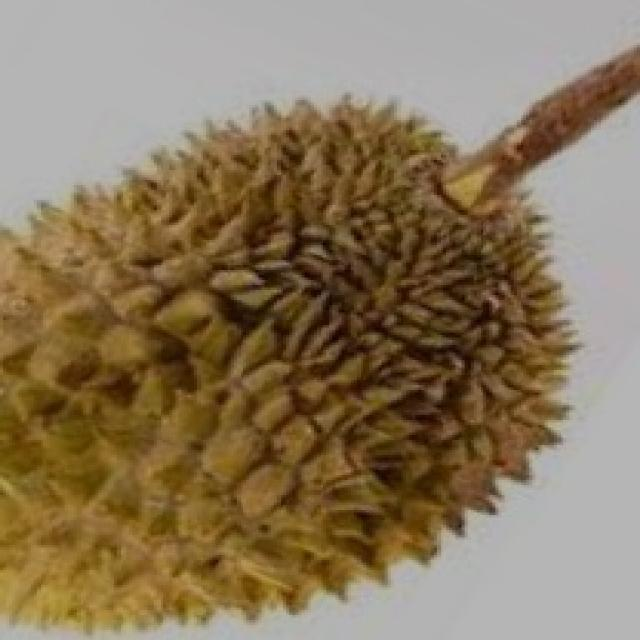fruit: (249, 227, 634, 635), (3, 265, 388, 640)
